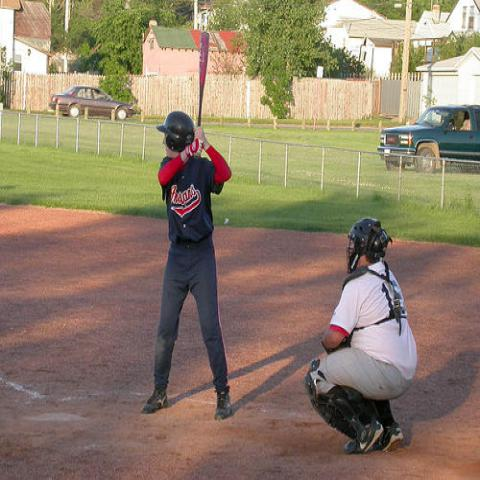car: (378, 105, 479, 177), (50, 87, 132, 122)
